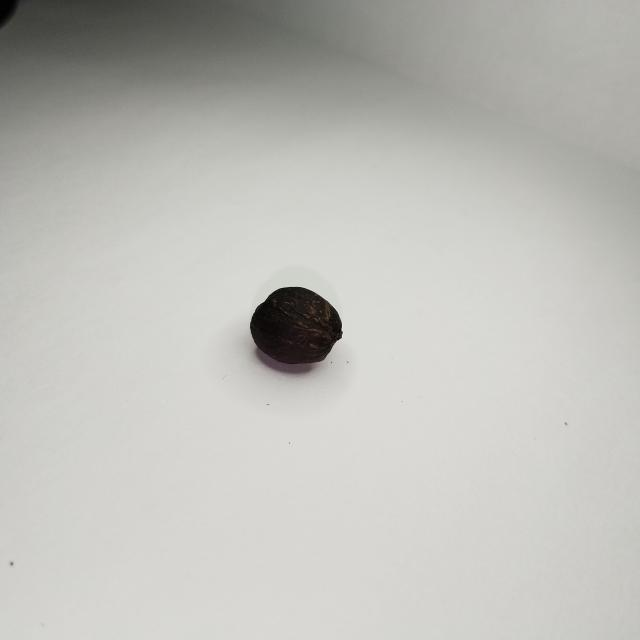Danado: (250, 287, 343, 364)
